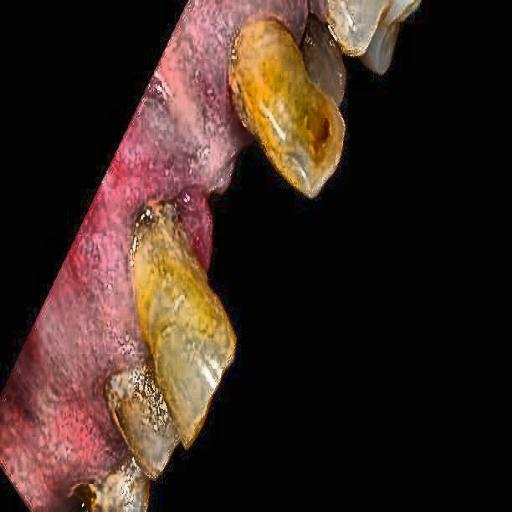Calculus: (88, 185, 255, 512), (223, 0, 420, 161)
